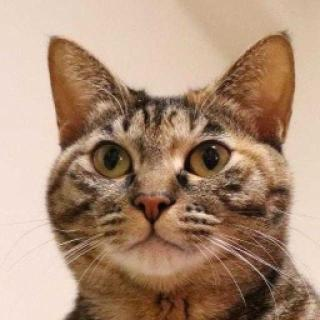cat: (45, 23, 299, 290)
nose: (126, 180, 182, 224)
